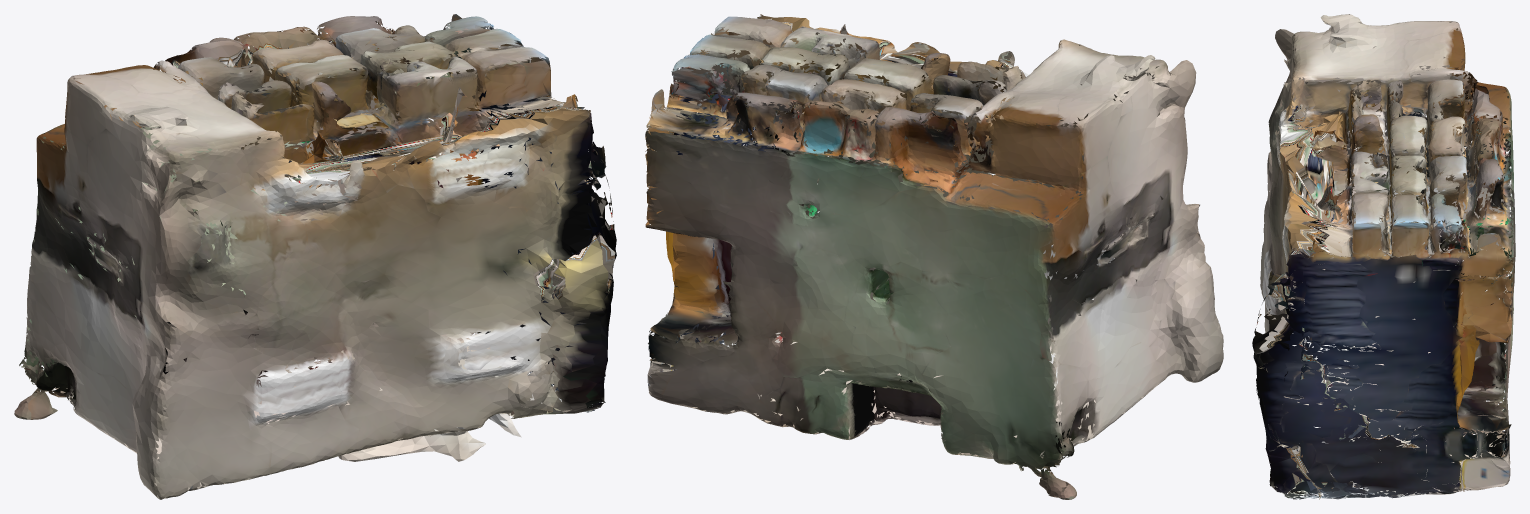
File: room.obj
3 renders of one model, left to right at view 1: azimuth 30°, elevation 25°; view 2: azimuth 150°, elevation 25°; view 3: azimuth 270°, elevation 25°, orthographic. The views are drawn at different scales.
Visible parts, largest first — view 1: room; view 2: room; view 3: room.
Boxes of the visible parts, bbox=[...] form: room: bbox=[14, 14, 616, 499]; room: bbox=[645, 14, 1223, 499]; room: bbox=[1252, 14, 1515, 499].
Size of the model in its own units: 6.02 by 4.81 by 3.58.
Materials: 1 (1 with a texture image).
